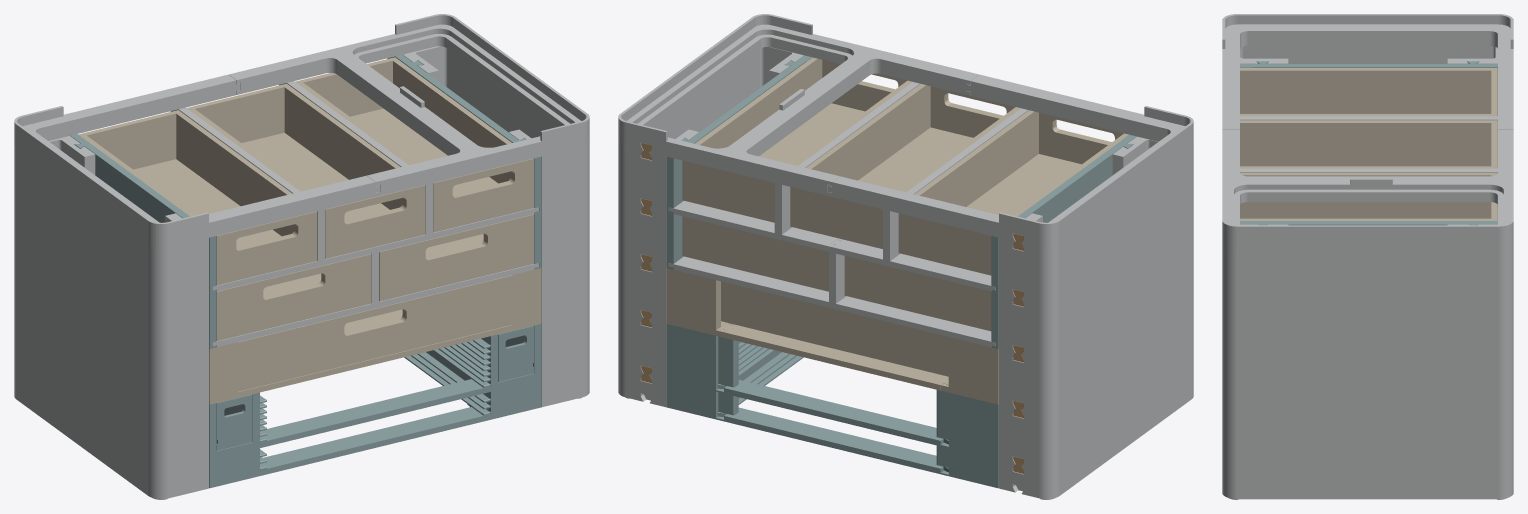
The model's file is stacknest-v55-assembly.glb.
3 renders of one model, left to right at view 1: azimuth 30°, elevation 25°; view 2: azimuth 150°, elevation 25°; view 3: azimuth 270°, elevation 25°, orthographic.
Visible parts, largest first — view 1: F02, E03, E04, F01, C07, E05, E06, C09, B07, D04, D02, D03 (+25 smaller); view 2: F02, F01, E04, E03, E06, E05, C09, D04, B07, C08, E07, D02 (+25 smaller); view 3: F02, E07, C10, B08, D05, E03, E04, F01, A06, E05, E06, E01 (+3 smaller).
Part boxes in pixels (<box>): F02: <box>229,14,589,196</box>; E03: <box>78,110,317,285</box>; E04: <box>187,83,425,258</box>; F01: <box>14,74,379,248</box>; C07: <box>238,275,512,391</box>; E05: <box>295,57,533,232</box>; E06: <box>14,136,208,303</box>; C09: <box>14,258,208,415</box>; B07: <box>14,314,208,471</box>; D04: <box>14,202,208,359</box>; D02: <box>216,254,371,340</box>; D03: <box>379,214,533,301</box>; F02: <box>618,14,978,196</box>; F01: <box>828,74,1193,248</box>; E04: <box>790,84,1020,248</box>; E03: <box>898,110,1128,275</box>; E06: <box>999,136,1193,303</box>; E05: <box>682,57,912,222</box>; C09: <box>999,258,1193,415</box>; D04: <box>999,202,1193,359</box>; B07: <box>999,314,1193,471</box>; C08: <box>721,281,948,376</box>; E07: <box>618,47,803,211</box>; D02: <box>844,256,991,331</box>; F02: <box>1222,129,1513,250</box>; E07: <box>1222,224,1513,305</box>; C10: <box>1222,356,1513,416</box>; B08: <box>1222,411,1513,471</box>; D05: <box>1222,301,1513,360</box>; E03: <box>1240,68,1497,116</box>; E04: <box>1240,120,1497,168</box>; F01: <box>1222,14,1513,129</box>; A06: <box>1222,466,1513,499</box>; E05: <box>1240,172,1497,220</box>; E06: <box>1240,46,1497,63</box>; E01: <box>1240,116,1497,168</box>.
Size of the model in its own units: 0.495 by 0.299 by 0.287.
